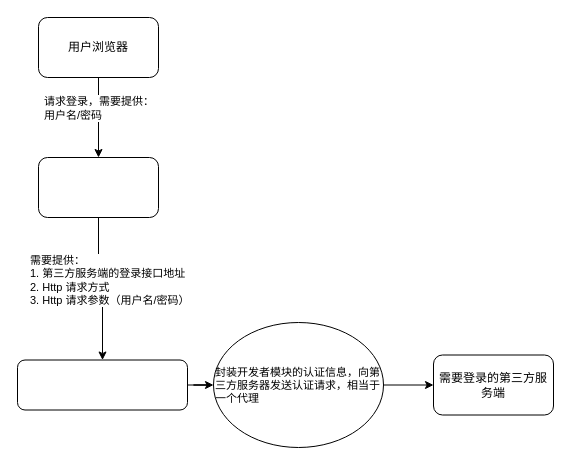
This 571x465 diagram has some shape labels left out. The shapes that lost their labels are listed below. From the top down, each one's centre as x and y in pixels, then its label:
At point 98,187: "开发者模块".
At point 102,384: "Http-api 模块".
